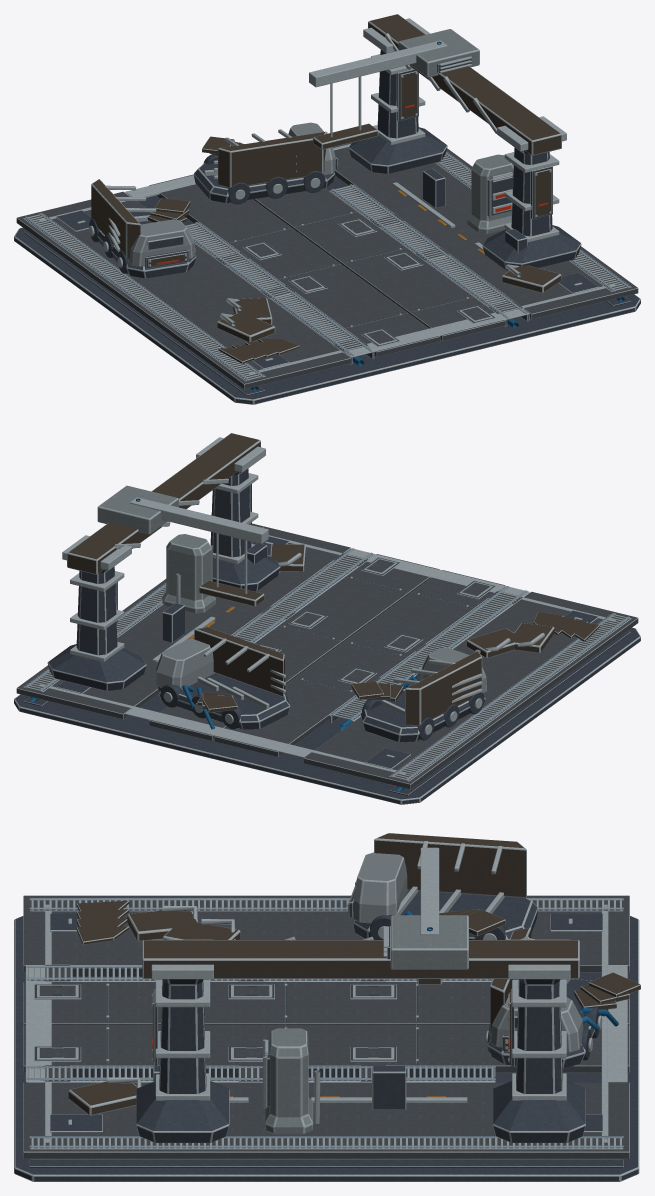
Rendered from HaulerGraveyard.fbx.
The picture shows the model from 3 angles, top to bottom: view 1: azimuth 30°, elevation 25°; view 2: azimuth 150°, elevation 25°; view 3: azimuth 270°, elevation 25°; orthographic projection. The views are drawn at different scales.
Parts seen in each view (by area): view 1: CH_HaulerGraveyard_refined_floor_-1_0, CH_HaulerGraveyard_refined_floor_0_0, CH_HaulerGraveyard_foundation_0_0, CH_HaulerGraveyard_loading_frame_0_0, CH_HaulerGraveyard_transport_wrecks_0_1, CH_HaulerGraveyard_loading_frame_0_-2, CH_HaulerGraveyard_loading_frame_0_1, CH_HaulerGraveyard_floor_-2_0, CH_HaulerGraveyard_refined_floor_0_-1, CH_HaulerGraveyard_refined_floor_-1_-1, CH_HaulerGraveyard_transport_wrecks_-1_0, CH_HaulerGraveyard_loading_services_0_-1 (+17 smaller); view 2: CH_HaulerGraveyard_refined_floor_-1_0, CH_HaulerGraveyard_refined_floor_0_0, CH_HaulerGraveyard_foundation_0_0, CH_HaulerGraveyard_loading_frame_0_0, CH_HaulerGraveyard_transport_wrecks_0_1, CH_HaulerGraveyard_loading_frame_0_1, CH_HaulerGraveyard_loading_frame_0_-2, CH_HaulerGraveyard_floor_-2_0, CH_HaulerGraveyard_transport_wrecks_-2_0, CH_HaulerGraveyard_loading_services_0_-1, CH_HaulerGraveyard_transport_wrecks_-1_0, CH_HaulerGraveyard_refined_floor_-1_-1 (+23 smaller); view 3: CH_HaulerGraveyard_refined_floor_0_0, CH_HaulerGraveyard_refined_floor_-1_0, CH_HaulerGraveyard_loading_frame_0_0, CH_HaulerGraveyard_foundation_0_0, CH_HaulerGraveyard_loading_frame_0_1, CH_HaulerGraveyard_loading_frame_0_-2, CH_HaulerGraveyard_floor_1_0, CH_HaulerGraveyard_transport_wrecks_-2_0, CH_HaulerGraveyard_transport_wrecks_-1_0, CH_HaulerGraveyard_loading_services_0_-1, CH_HaulerGraveyard_refined_floor_0_-1, CH_HaulerGraveyard_transport_wrecks_0_1 (+23 smaller).
Part boxes in pixels (x1,y1,x2,y2): CH_HaulerGraveyard_refined_floor_-1_0: (16, 174, 440, 389); CH_HaulerGraveyard_refined_floor_0_0: (253, 143, 638, 340); CH_HaulerGraveyard_foundation_0_0: (14, 176, 640, 404); CH_HaulerGraveyard_loading_frame_0_0: (309, 14, 561, 155); CH_HaulerGraveyard_transport_wrecks_0_1: (193, 122, 335, 203); CH_HaulerGraveyard_loading_frame_0_-2: (482, 116, 581, 270); CH_HaulerGraveyard_loading_frame_0_1: (348, 18, 447, 174); CH_HaulerGraveyard_floor_-2_0: (23, 213, 265, 395); CH_HaulerGraveyard_refined_floor_0_-1: (329, 184, 529, 328); CH_HaulerGraveyard_refined_floor_-1_-1: (191, 222, 374, 366); CH_HaulerGraveyard_transport_wrecks_-1_0: (89, 208, 196, 278); CH_HaulerGraveyard_loading_services_0_-1: (467, 154, 513, 234); CH_HaulerGraveyard_refined_floor_-1_0: (214, 570, 638, 789); CH_HaulerGraveyard_refined_floor_0_0: (16, 523, 440, 740); CH_HaulerGraveyard_foundation_0_0: (14, 564, 640, 804); CH_HaulerGraveyard_loading_frame_0_0: (67, 433, 268, 606); CH_HaulerGraveyard_transport_wrecks_0_1: (155, 627, 290, 729); CH_HaulerGraveyard_loading_frame_0_1: (47, 535, 146, 691); CH_HaulerGraveyard_loading_frame_0_-2: (196, 437, 280, 591); CH_HaulerGraveyard_floor_-2_0: (389, 613, 631, 795); CH_HaulerGraveyard_transport_wrecks_-2_0: (405, 651, 484, 725); CH_HaulerGraveyard_loading_services_0_-1: (162, 534, 215, 613); CH_HaulerGraveyard_transport_wrecks_-1_0: (360, 647, 486, 742); CH_HaulerGraveyard_refined_floor_-1_-1: (329, 586, 529, 730); CH_HaulerGraveyard_refined_floor_0_0: (23, 1024, 629, 1158); CH_HaulerGraveyard_refined_floor_-1_0: (23, 895, 629, 1024); CH_HaulerGraveyard_loading_frame_0_0: (142, 847, 579, 984); CH_HaulerGraveyard_foundation_0_0: (14, 916, 639, 1181); CH_HaulerGraveyard_loading_frame_0_1: (492, 936, 585, 1142); CH_HaulerGraveyard_loading_frame_0_-2: (136, 939, 229, 1142); CH_HaulerGraveyard_floor_1_0: (29, 1136, 623, 1167); CH_HaulerGraveyard_transport_wrecks_-2_0: (374, 833, 526, 897); CH_HaulerGraveyard_transport_wrecks_-1_0: (353, 841, 538, 939); CH_HaulerGraveyard_loading_services_0_-1: (263, 1028, 320, 1134); CH_HaulerGraveyard_refined_floor_0_-1: (26, 1024, 495, 1082); CH_HaulerGraveyard_transport_wrecks_0_1: (486, 927, 601, 1069).
Bounding box in the file's own units: 20 × 7.75 × 20.05.
